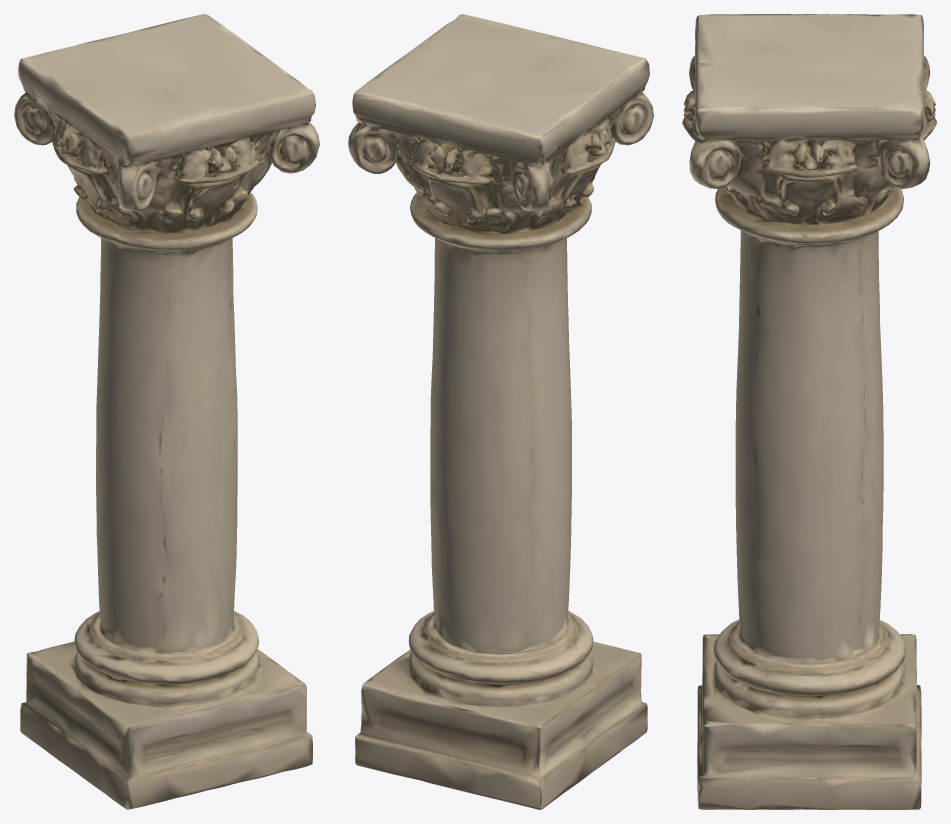
The model's file is polished-marble-column-lion-capital-optimized.glb.
3 views of the same model, side by side, from view 1: azimuth 30°, elevation 25°; view 2: azimuth 150°, elevation 25°; view 3: azimuth 270°, elevation 25° (orthographic). The views are drawn at different scales.
Visible parts, largest first — view 1: world; view 2: world; view 3: world.
Part boxes in pixels (x1,y1,x2,y2): world: [14, 14, 319, 809]; world: [348, 14, 653, 809]; world: [682, 14, 936, 809].
Bounding box in the file's own units: 1.31 × 4 × 1.31.
1 material, 1 textured.
